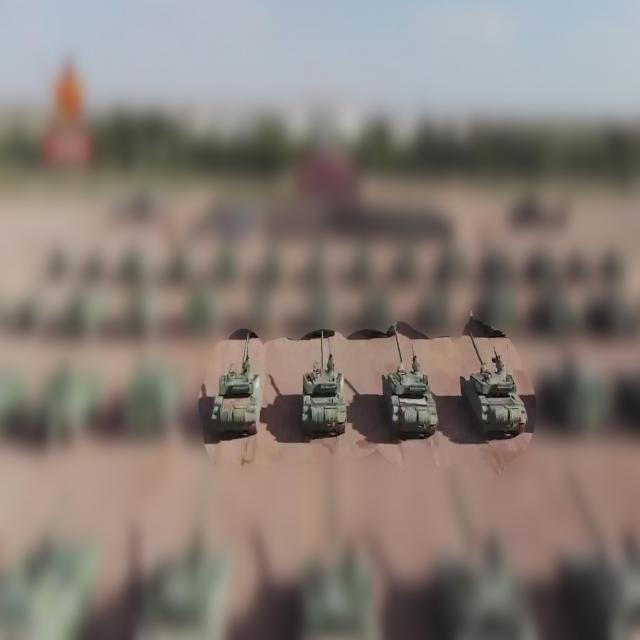tank: (460, 333, 528, 441), (207, 328, 264, 442), (384, 323, 438, 440), (301, 329, 348, 438)
